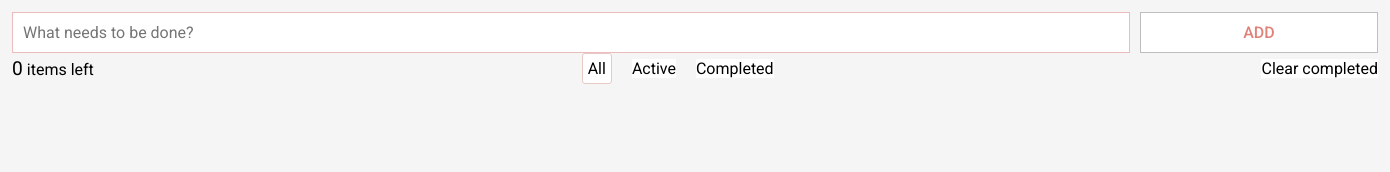
TodoPage component › should add a new todo when the form is submitted with non-empty text
The width and height of the screenshot is (1390, 172).
In the field with test id "input": (571, 32) [12,12,1130,53], type "New todo item"
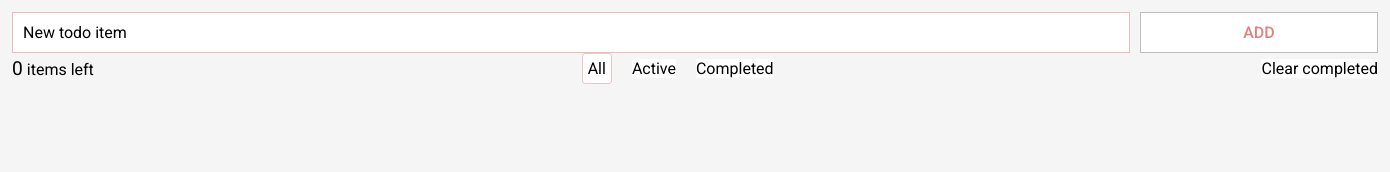
Click the button "Add": (1259, 32) [1140,12,1378,53]
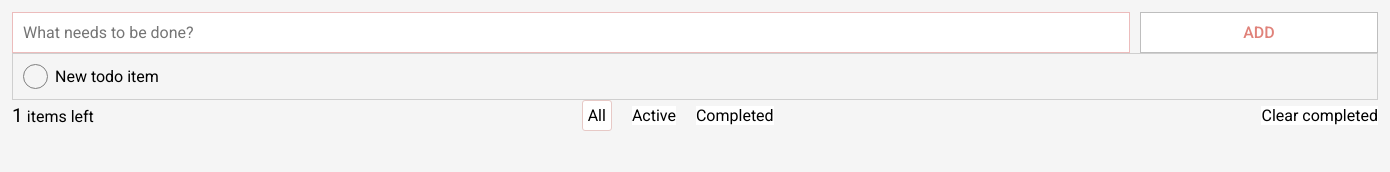
Check: the text "New todo item" is shown, box [55,67,159,86]
